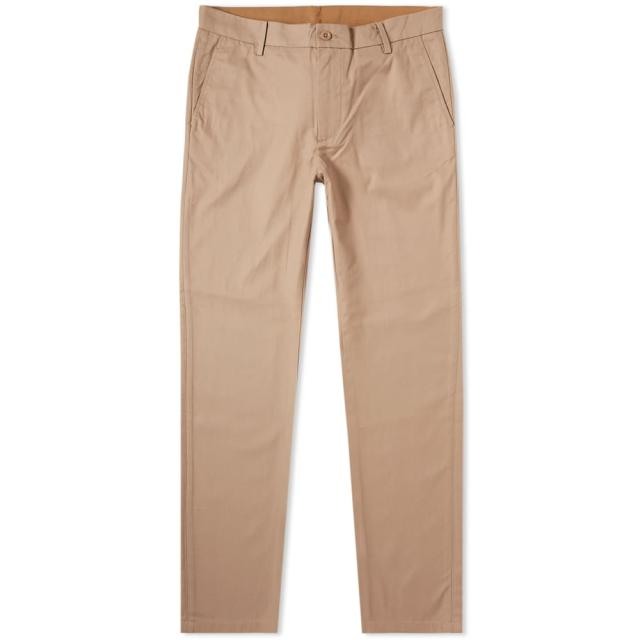long-pants: (179, 5, 470, 638)
